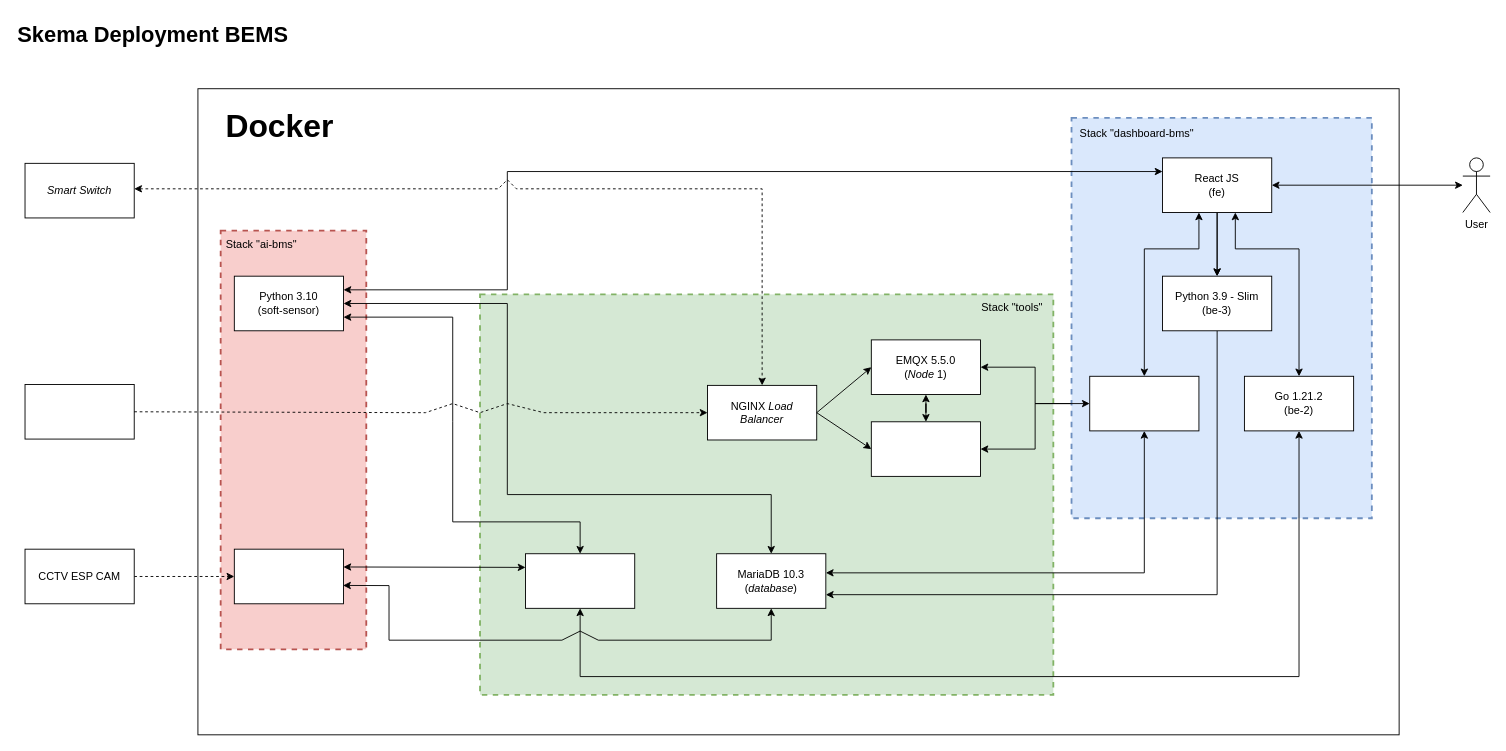
The diagram is 1506 pixels wide and 751 high, and some of its shapes have lost their labels. Each missing label, with the centre of its shape:
EMQX 5.5.0 ( Node 2): point 925,448
Go 1.21.2 (be-1): point 1144,403
MinIO 2024-12-18T13-15-44Z (MinIO): point 580,580
Python 3.10 (ai-occupancy): point 288,576
Sistem Akuisisi Data: point 79,411
